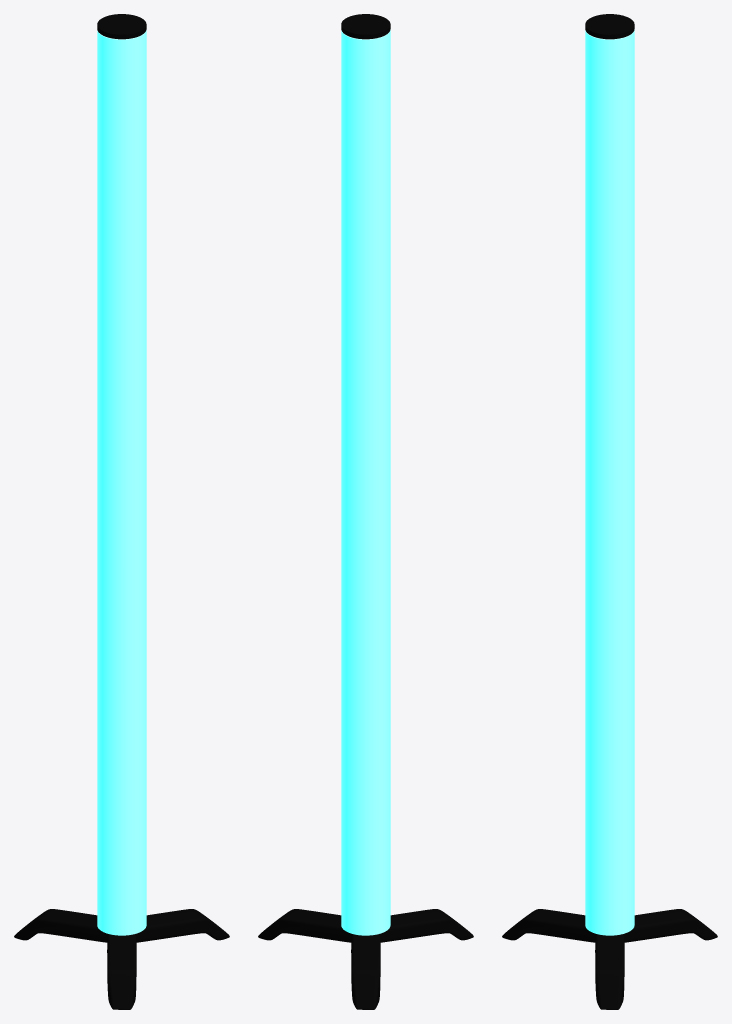
Rendered from led_batten.glb.
3 views of the same model, side by side, from view 1: azimuth 30°, elevation 25°; view 2: azimuth 150°, elevation 25°; view 3: azimuth 270°, elevation 25° (orthographic).
Parts seen in each view (by area): view 1: led tube_0, foot 3_3, foot 2_2, foot 1_1, cap_4; view 2: led tube_0, foot 2_2, foot 1_1, foot 3_3, cap_4; view 3: led tube_0, foot 1_1, foot 3_3, foot 2_2, cap_4.
Boxes of the visible parts, <box> form: led tube_0: <box>97,30,146,935</box>; foot 3_3: <box>107,934,136,1009</box>; foot 2_2: <box>14,909,107,942</box>; foot 1_1: <box>136,909,229,942</box>; cap_4: <box>97,14,146,39</box>; led tube_0: <box>341,29,390,935</box>; foot 2_2: <box>351,934,380,1009</box>; foot 1_1: <box>258,909,351,942</box>; foot 3_3: <box>380,909,473,942</box>; cap_4: <box>341,14,390,39</box>; led tube_0: <box>585,29,634,935</box>; foot 1_1: <box>595,934,624,1009</box>; foot 3_3: <box>502,909,595,942</box>; foot 2_2: <box>624,909,717,942</box>; cap_4: <box>585,14,634,39</box>.
Bounding box in the file's own units: 0.1899 × 1.04 × 0.2184.
